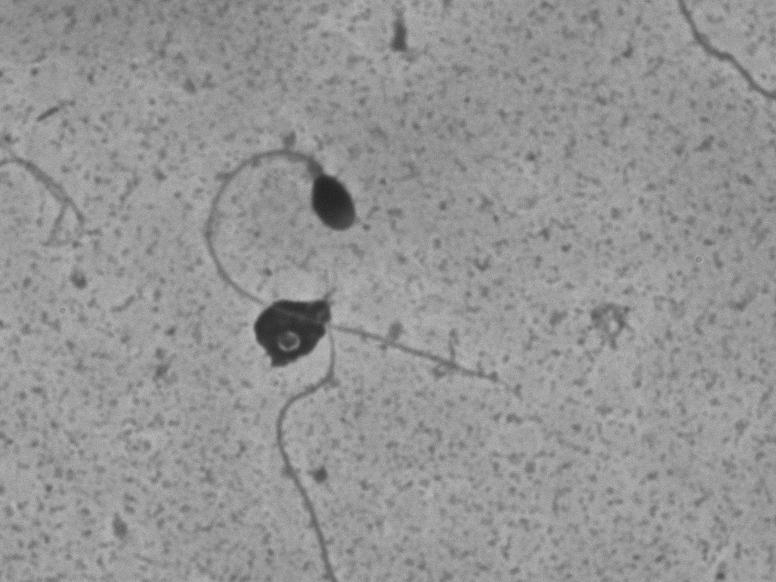Normal: (189, 142, 535, 402)
